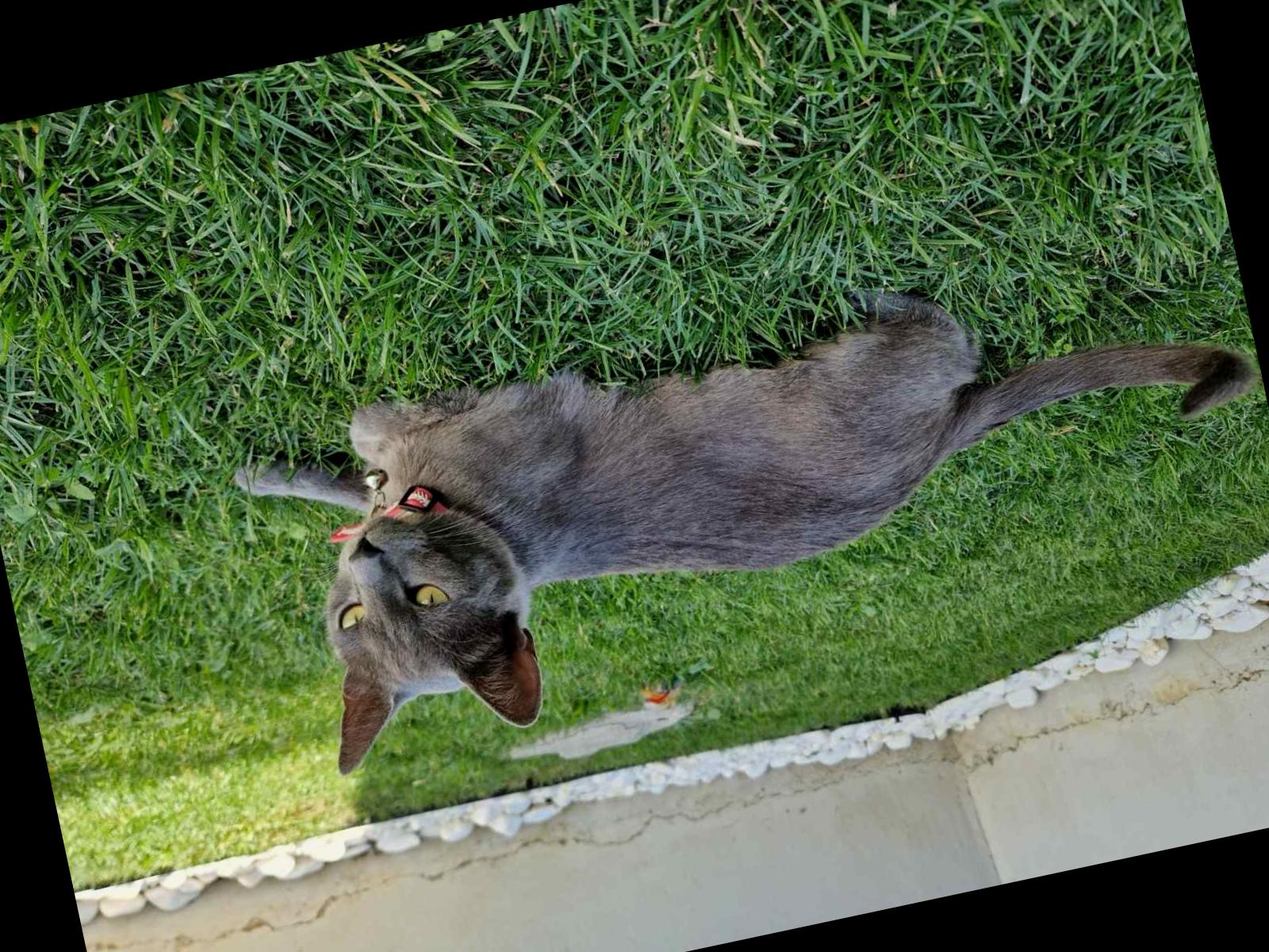macka: (220, 220, 1269, 777)
